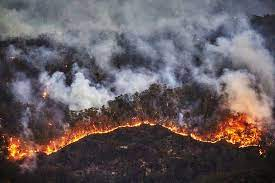smoke: (1, 1, 275, 114)
